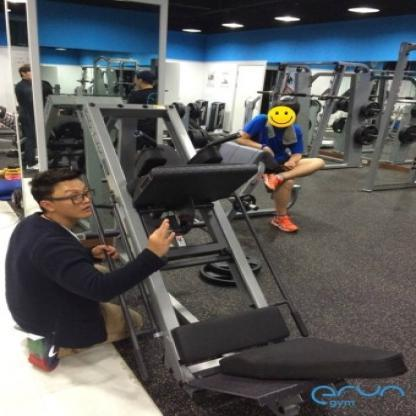leg press: (11, 77, 416, 416)
